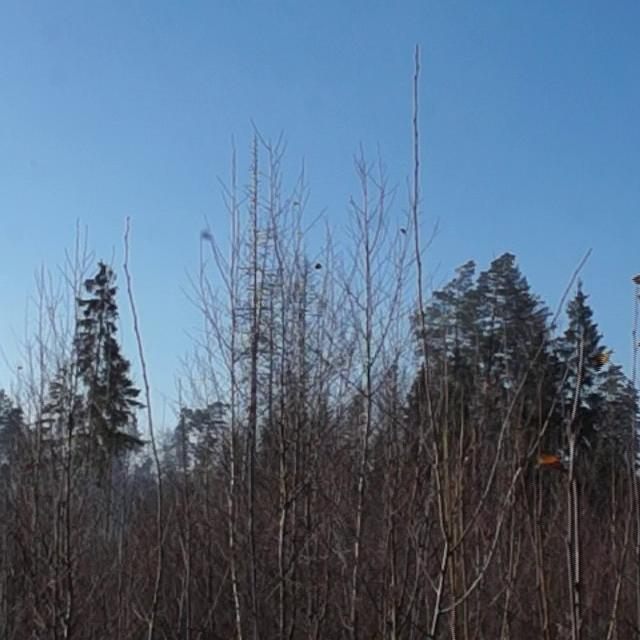Smoke: (83, 447, 176, 540)
